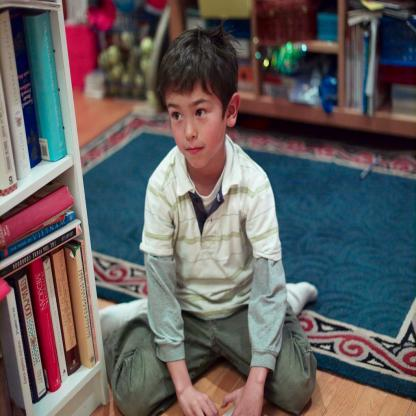book: (0, 178, 101, 415), (0, 1, 63, 200), (345, 0, 379, 110)
